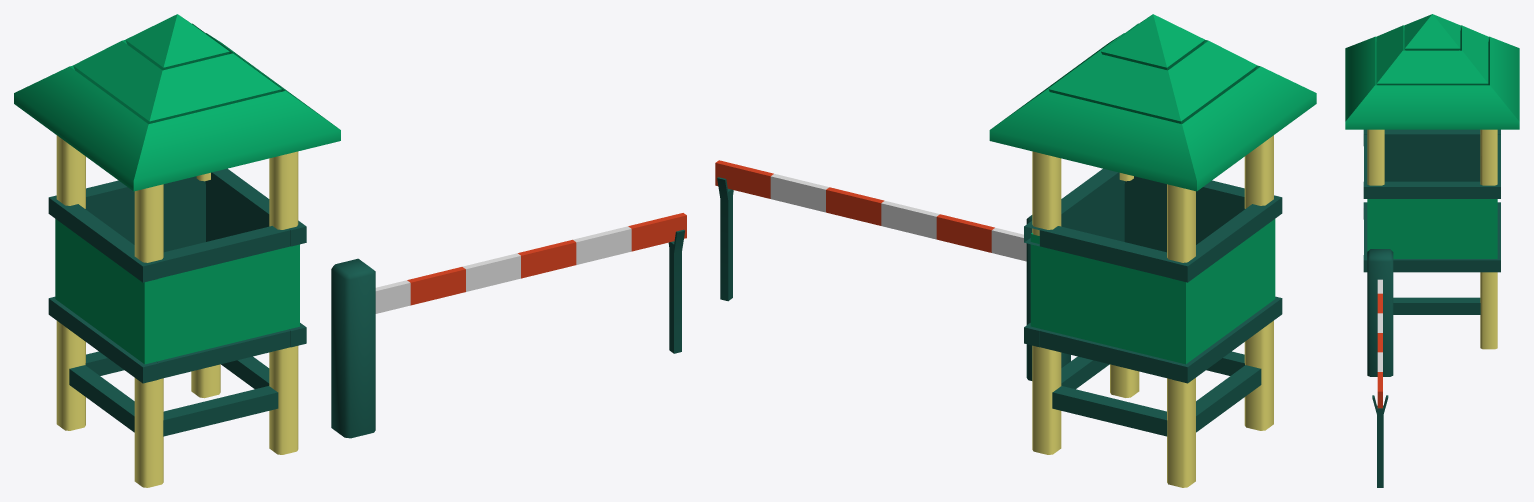
The model's file is Chekpoint.fbx.
The picture shows the model from 3 angles, left to right: view 1: azimuth 30°, elevation 25°; view 2: azimuth 150°, elevation 25°; view 3: azimuth 270°, elevation 25°; orthographic projection. The views are drawn at different scales.
Visible parts, largest first — view 1: Chekpoint, ShlakbaumStand, Shlakbaum; view 2: Chekpoint, Shlakbaum, ShlakbaumStand; view 3: Chekpoint, ShlakbaumStand, Shlakbaum.
Part boxes in pixels (x1=…): Chekpoint: x1=14, y1=14, x2=340, y2=487; ShlakbaumStand: x1=331, y1=229, x2=684, y2=438; Shlakbaum: x1=375, y1=213, x2=686, y2=313; Chekpoint: x1=989, y1=14, x2=1316, y2=487; Shlakbaum: x1=715, y1=160, x2=1026, y2=261; ShlakbaumStand: x1=717, y1=177, x2=1070, y2=380; Chekpoint: x1=1345, y1=14, x2=1519, y2=349; ShlakbaumStand: x1=1367, y1=249, x2=1393, y2=487; Shlakbaum: x1=1377, y1=279, x2=1382, y2=408.
Bounding box in the file's own units: 5.55 × 3.91 × 2.
